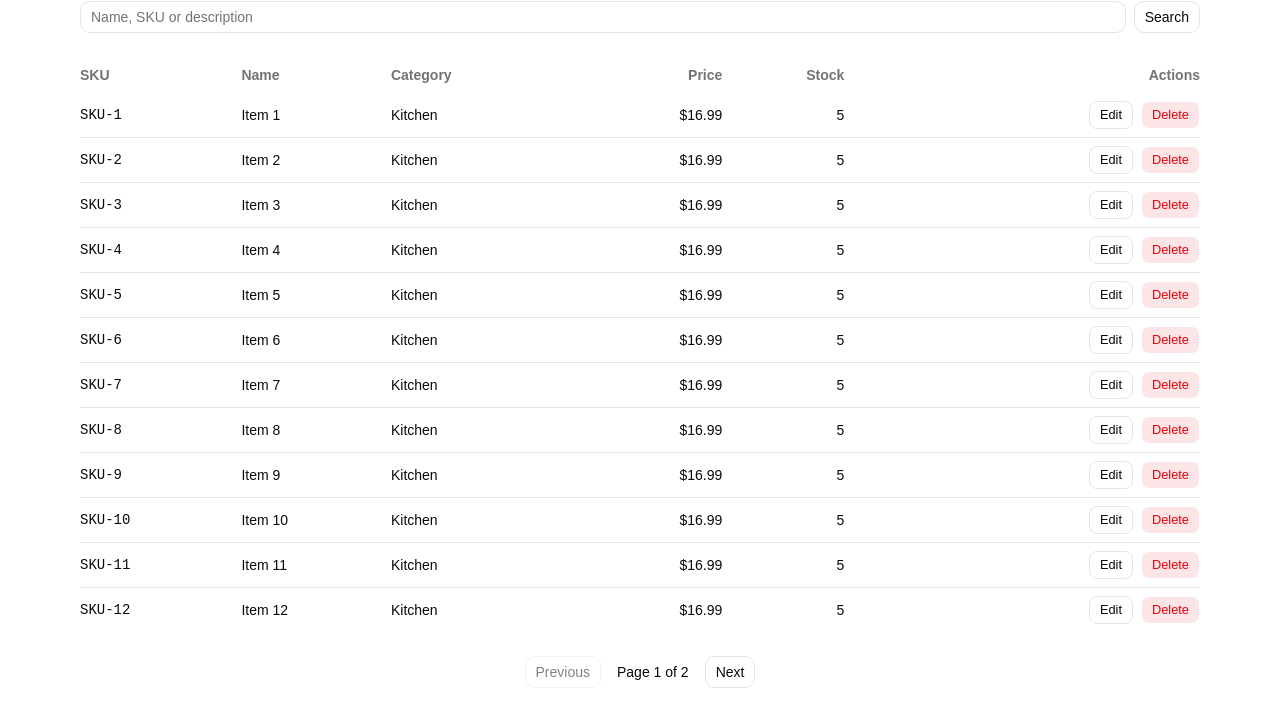
Test: admin catalog › searches and pages through products, keeping both in the URL
(page scrolled)
Expected: the row "SKU-1 Item 1 Kitchen $16.99 5 Edit Delete" is shown, [80, 93, 1200, 138]
Click the button with aria-label "Next page" at (730,672), box [705, 656, 756, 688]
(page scrolled)
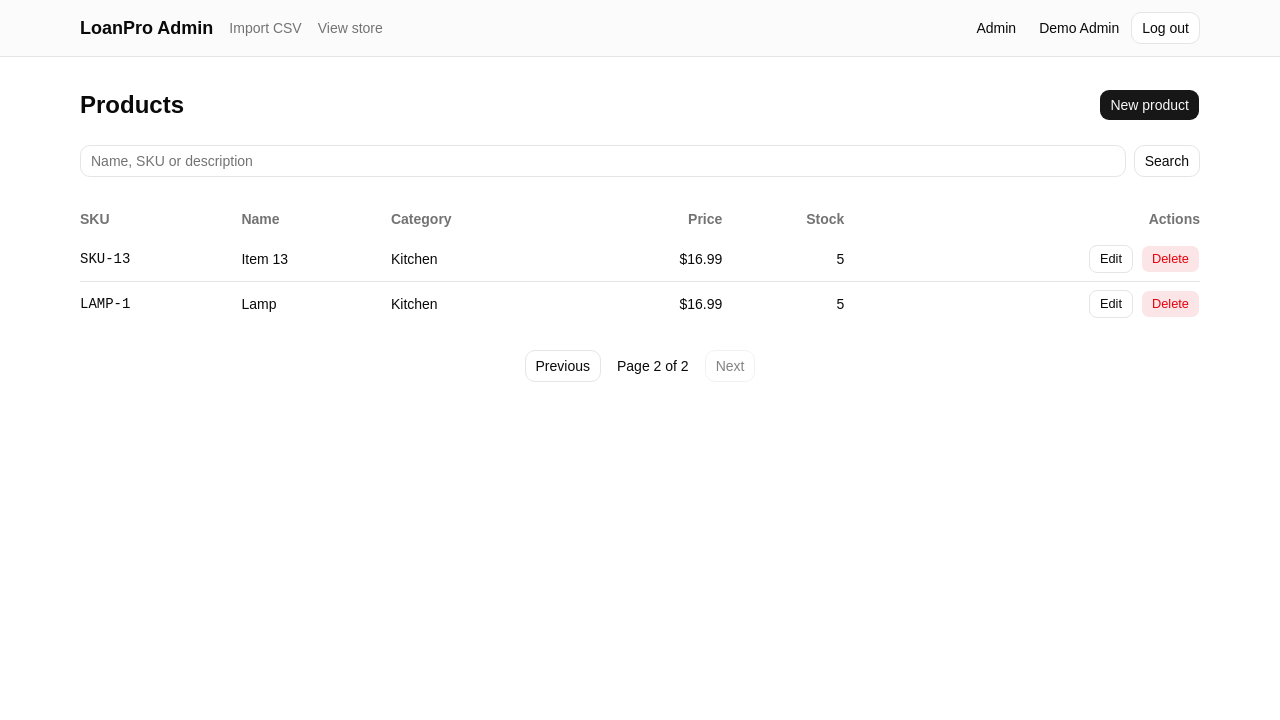
Expected: the row "LAMP-1 Lamp Kitchen $16.99 5 Edit Delete" is shown, [80, 282, 1200, 326]
Type "lamp" into the field named "Search products" at (603,161), box [80, 145, 1126, 177]
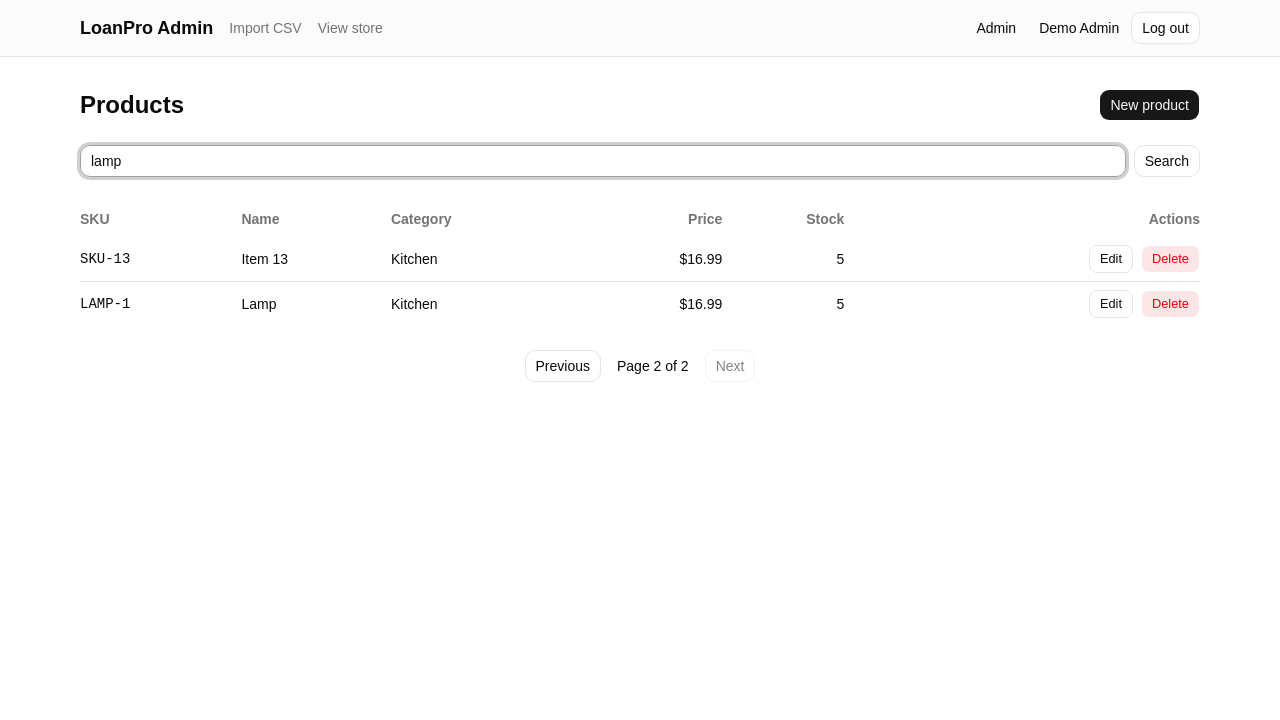
Click the button "Search" at (1167,161), box [1134, 145, 1200, 177]
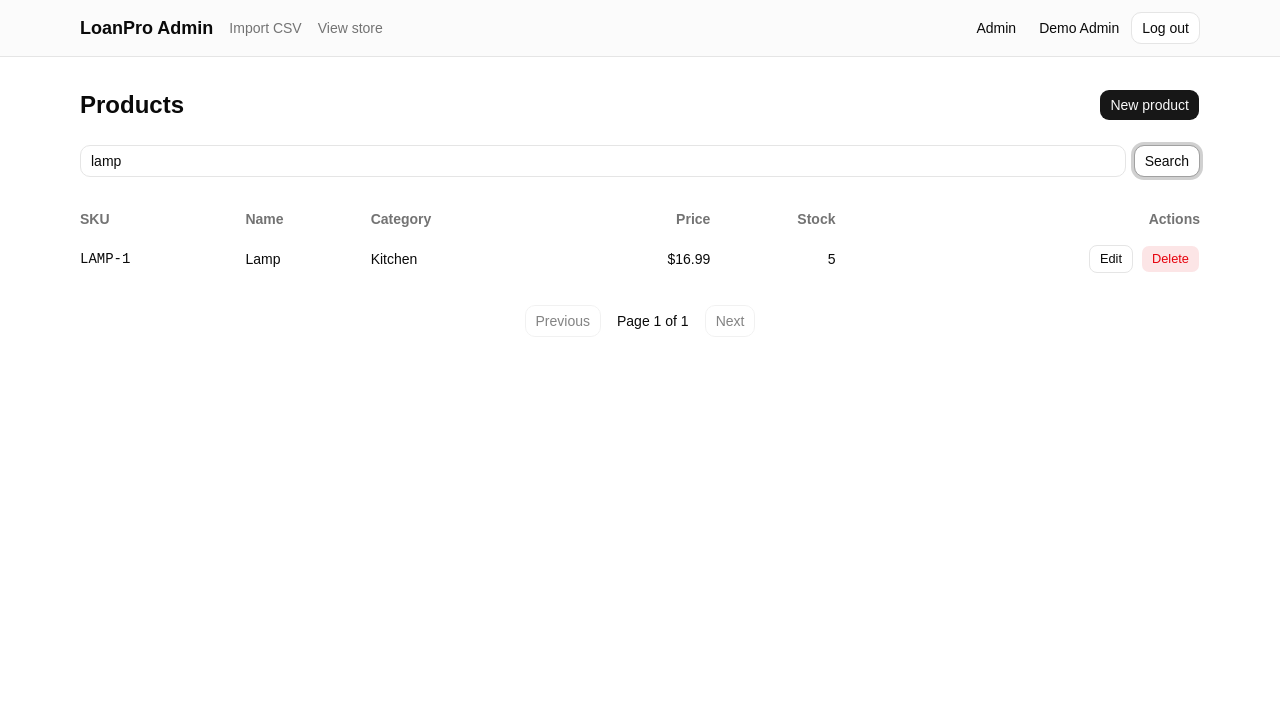
Expected: the text "Page 1 of 1" is shown, [617, 311, 689, 331]
Expected: the number of rows is 2, [80, 201, 1200, 237]; [80, 237, 1200, 281]
